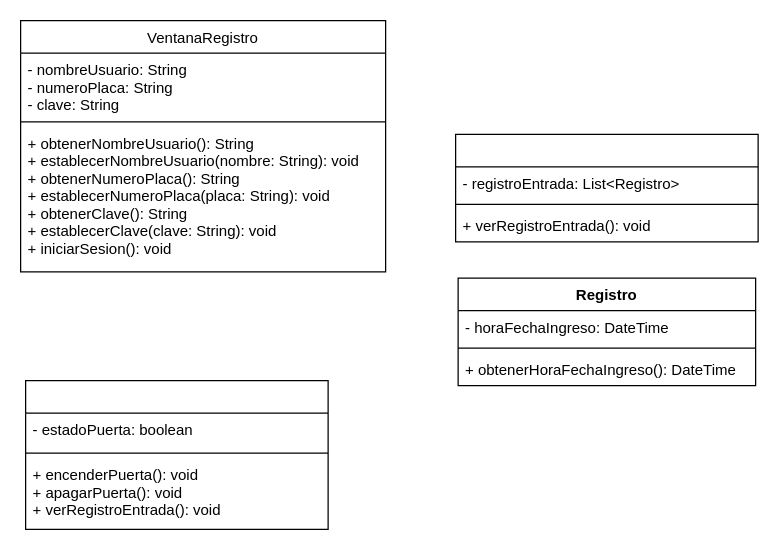
The diagram is 779 pixels wide and 550 high, and some of its shapes have lost their labels. The shapes that lost their labels are listed below. From the top down, each one's box as (x1, y1, x2, y2) in pixels, then its label:
(454, 133, 758, 242): VentanaRegistroEntrada
(24, 379, 328, 529): VentanaEstacionamiento
